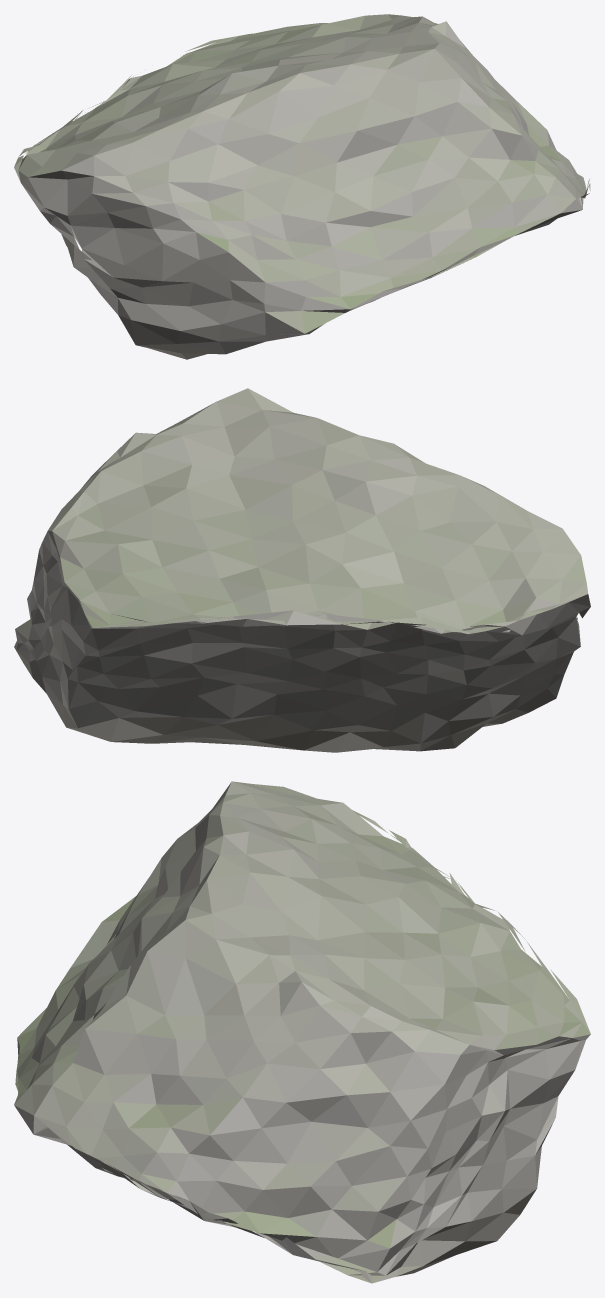
The picture shows the model from 3 angles, top to bottom: view 1: azimuth 30°, elevation 25°; view 2: azimuth 150°, elevation 25°; view 3: azimuth 270°, elevation 25°; orthographic projection. The views are drawn at different scales.
Visible parts, largest first — view 1: pedra_granito_b; view 2: pedra_granito_b; view 3: pedra_granito_b.
Part boxes in pixels (x1,y1,x2,y2): pedra_granito_b: [14, 14, 590, 359]; pedra_granito_b: [14, 388, 590, 752]; pedra_granito_b: [14, 781, 590, 1283].
Bounding box in the file's own units: 2.01 × 0.9307 × 1.59.
